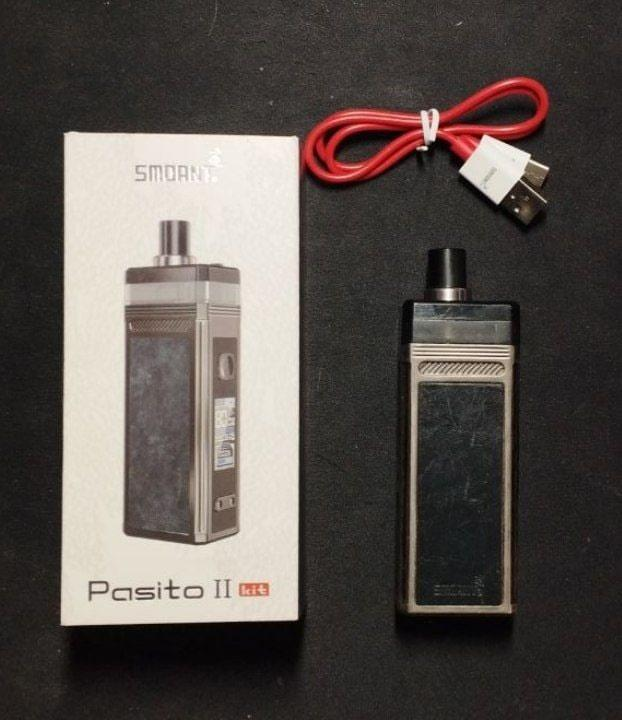Vape: (396, 249, 519, 632)
